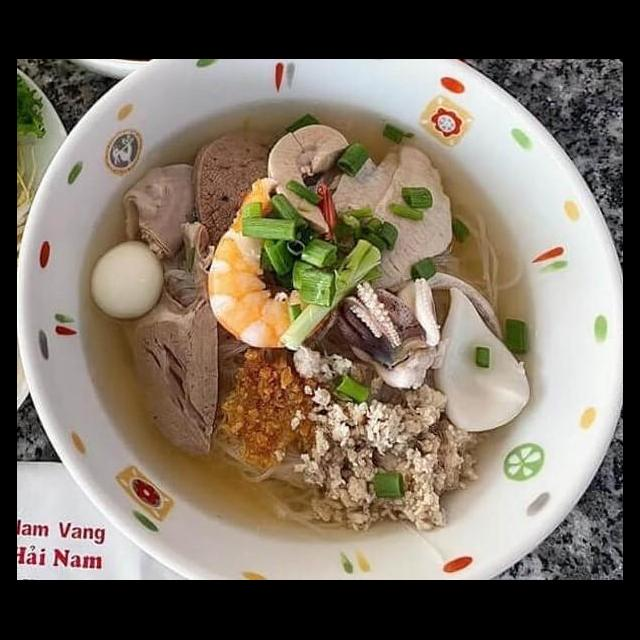banh hu tieu: (200, 416, 329, 534)
gan: (185, 122, 289, 250)
hu tieu: (49, 106, 623, 580)
muc: (433, 284, 537, 436), (332, 272, 451, 394)
thit bam: (286, 340, 483, 538)
thit heo: (347, 142, 458, 302), (318, 142, 409, 250)
tom: (202, 175, 342, 352)
trung: (84, 236, 165, 326)
